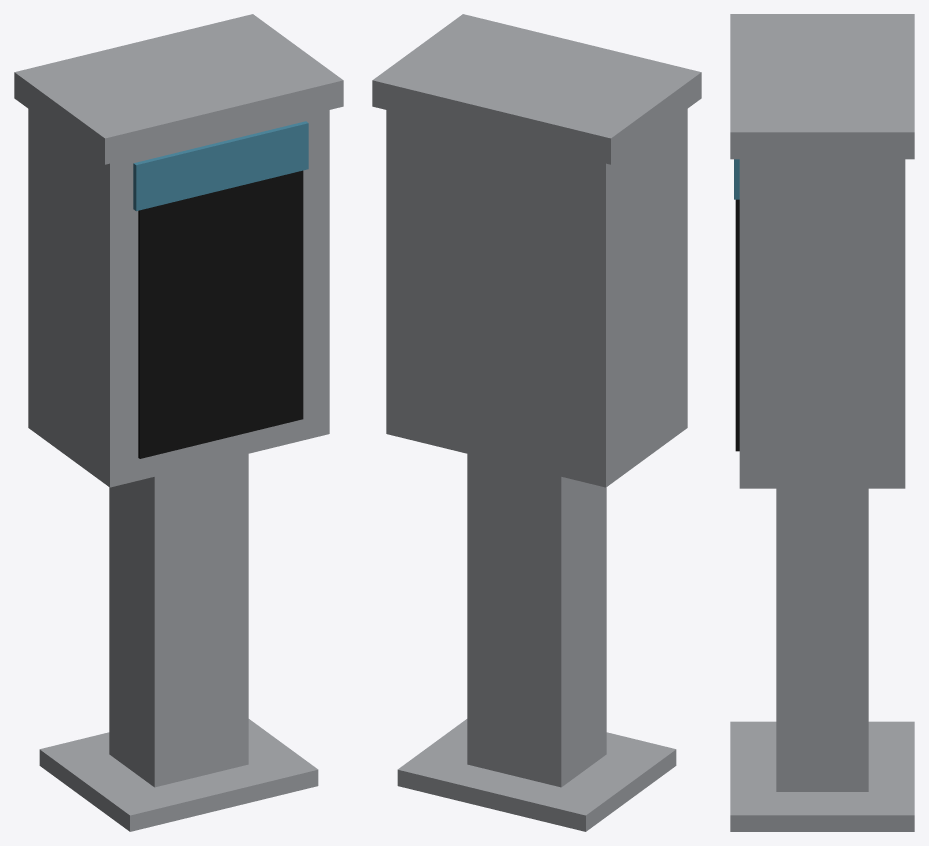
Rendered from objet_cabine_telephone.glb.
3 views of the same model, side by side, from view 1: azimuth 30°, elevation 25°; view 2: azimuth 150°, elevation 25°; view 3: azimuth 270°, elevation 25° (orthographic).
Parts seen in each view (by area): view 1: objet_cabine_telephone; view 2: objet_cabine_telephone; view 3: objet_cabine_telephone.
Part boxes in pixels (<box>): objet_cabine_telephone: <box>14,14,343,831</box>; objet_cabine_telephone: <box>372,14,701,831</box>; objet_cabine_telephone: <box>730,14,914,831</box>.
Size of the model in its own units: 0.76 by 2.13 by 0.5.
